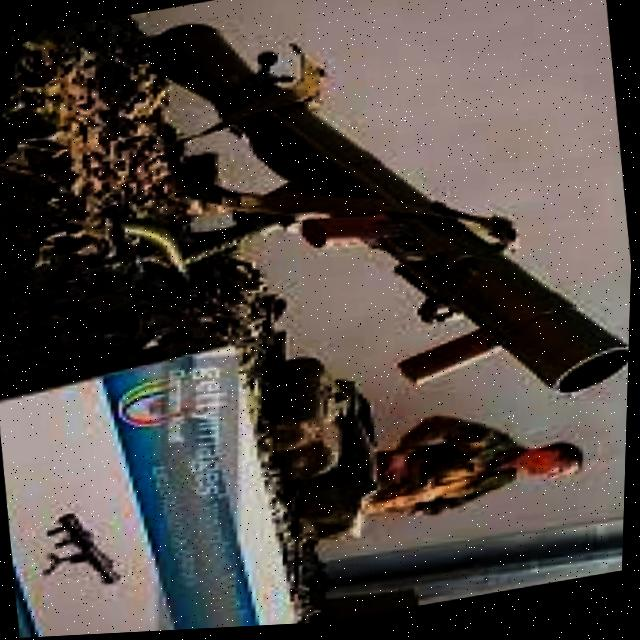rocket: (103, 0, 640, 475)
